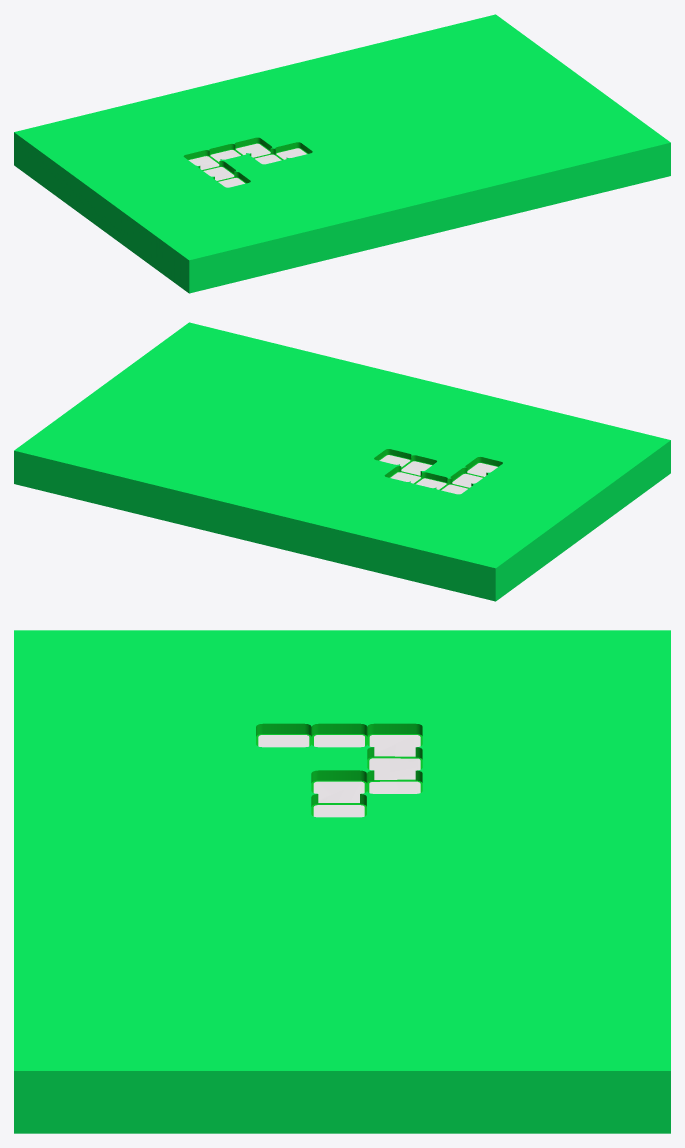
Rendered from level14.fbx.
The picture shows the model from 3 angles, top to bottom: view 1: azimuth 30°, elevation 25°; view 2: azimuth 150°, elevation 25°; view 3: azimuth 270°, elevation 25°; orthographic projection. The views are drawn at different scales.
Parts seen in each view (by area): view 1: Ground.016; view 2: Ground.016; view 3: Ground.016.
Boxes of the visible parts, box(x1,y1,x2,y2) form: Ground.016: box(14, 14, 670, 293); Ground.016: box(14, 322, 670, 601); Ground.016: box(14, 630, 670, 1133).
Size of the model in its own units: 7326 by 485 by 4613.
